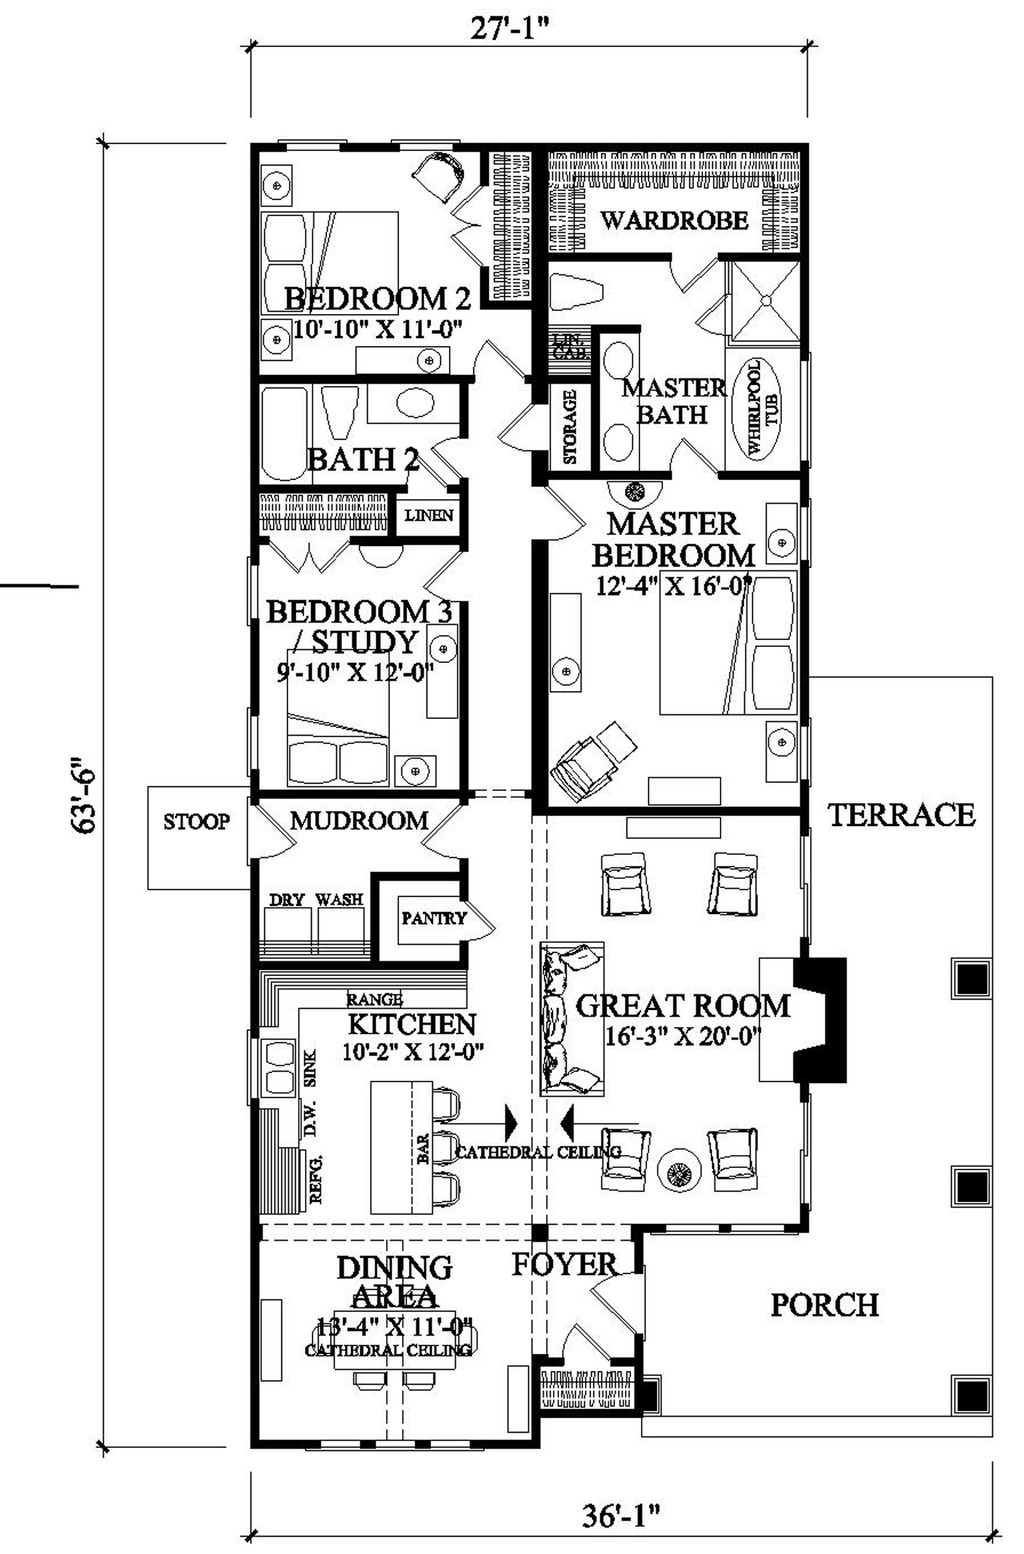bed: (654, 568, 808, 716), (286, 646, 400, 790), (259, 205, 408, 312)
dining_table: (315, 1277, 486, 1400)
door: (440, 181, 507, 269), (266, 520, 352, 578), (593, 1268, 669, 1333), (549, 1320, 625, 1378), (237, 795, 299, 866), (415, 798, 474, 862), (657, 249, 722, 307), (659, 436, 727, 490), (425, 542, 474, 612), (498, 393, 544, 459), (533, 483, 586, 539), (415, 427, 474, 478), (471, 337, 533, 383), (398, 454, 454, 498)
kitchen_bar: (361, 1073, 469, 1215)
large_sink: (310, 368, 361, 451), (539, 269, 613, 317)
large_sofa: (525, 944, 627, 1103)
small_sink: (600, 320, 640, 468), (366, 381, 449, 424)
small_sofa: (586, 844, 666, 934), (705, 1127, 776, 1215), (698, 846, 759, 920), (600, 1118, 647, 1203)
tub: (254, 383, 318, 492)
twin_sink: (245, 1034, 303, 1100)
window: (293, 1421, 479, 1461), (791, 1098, 822, 1237), (789, 351, 822, 466), (674, 1221, 798, 1244), (791, 720, 822, 790), (277, 133, 354, 154)
